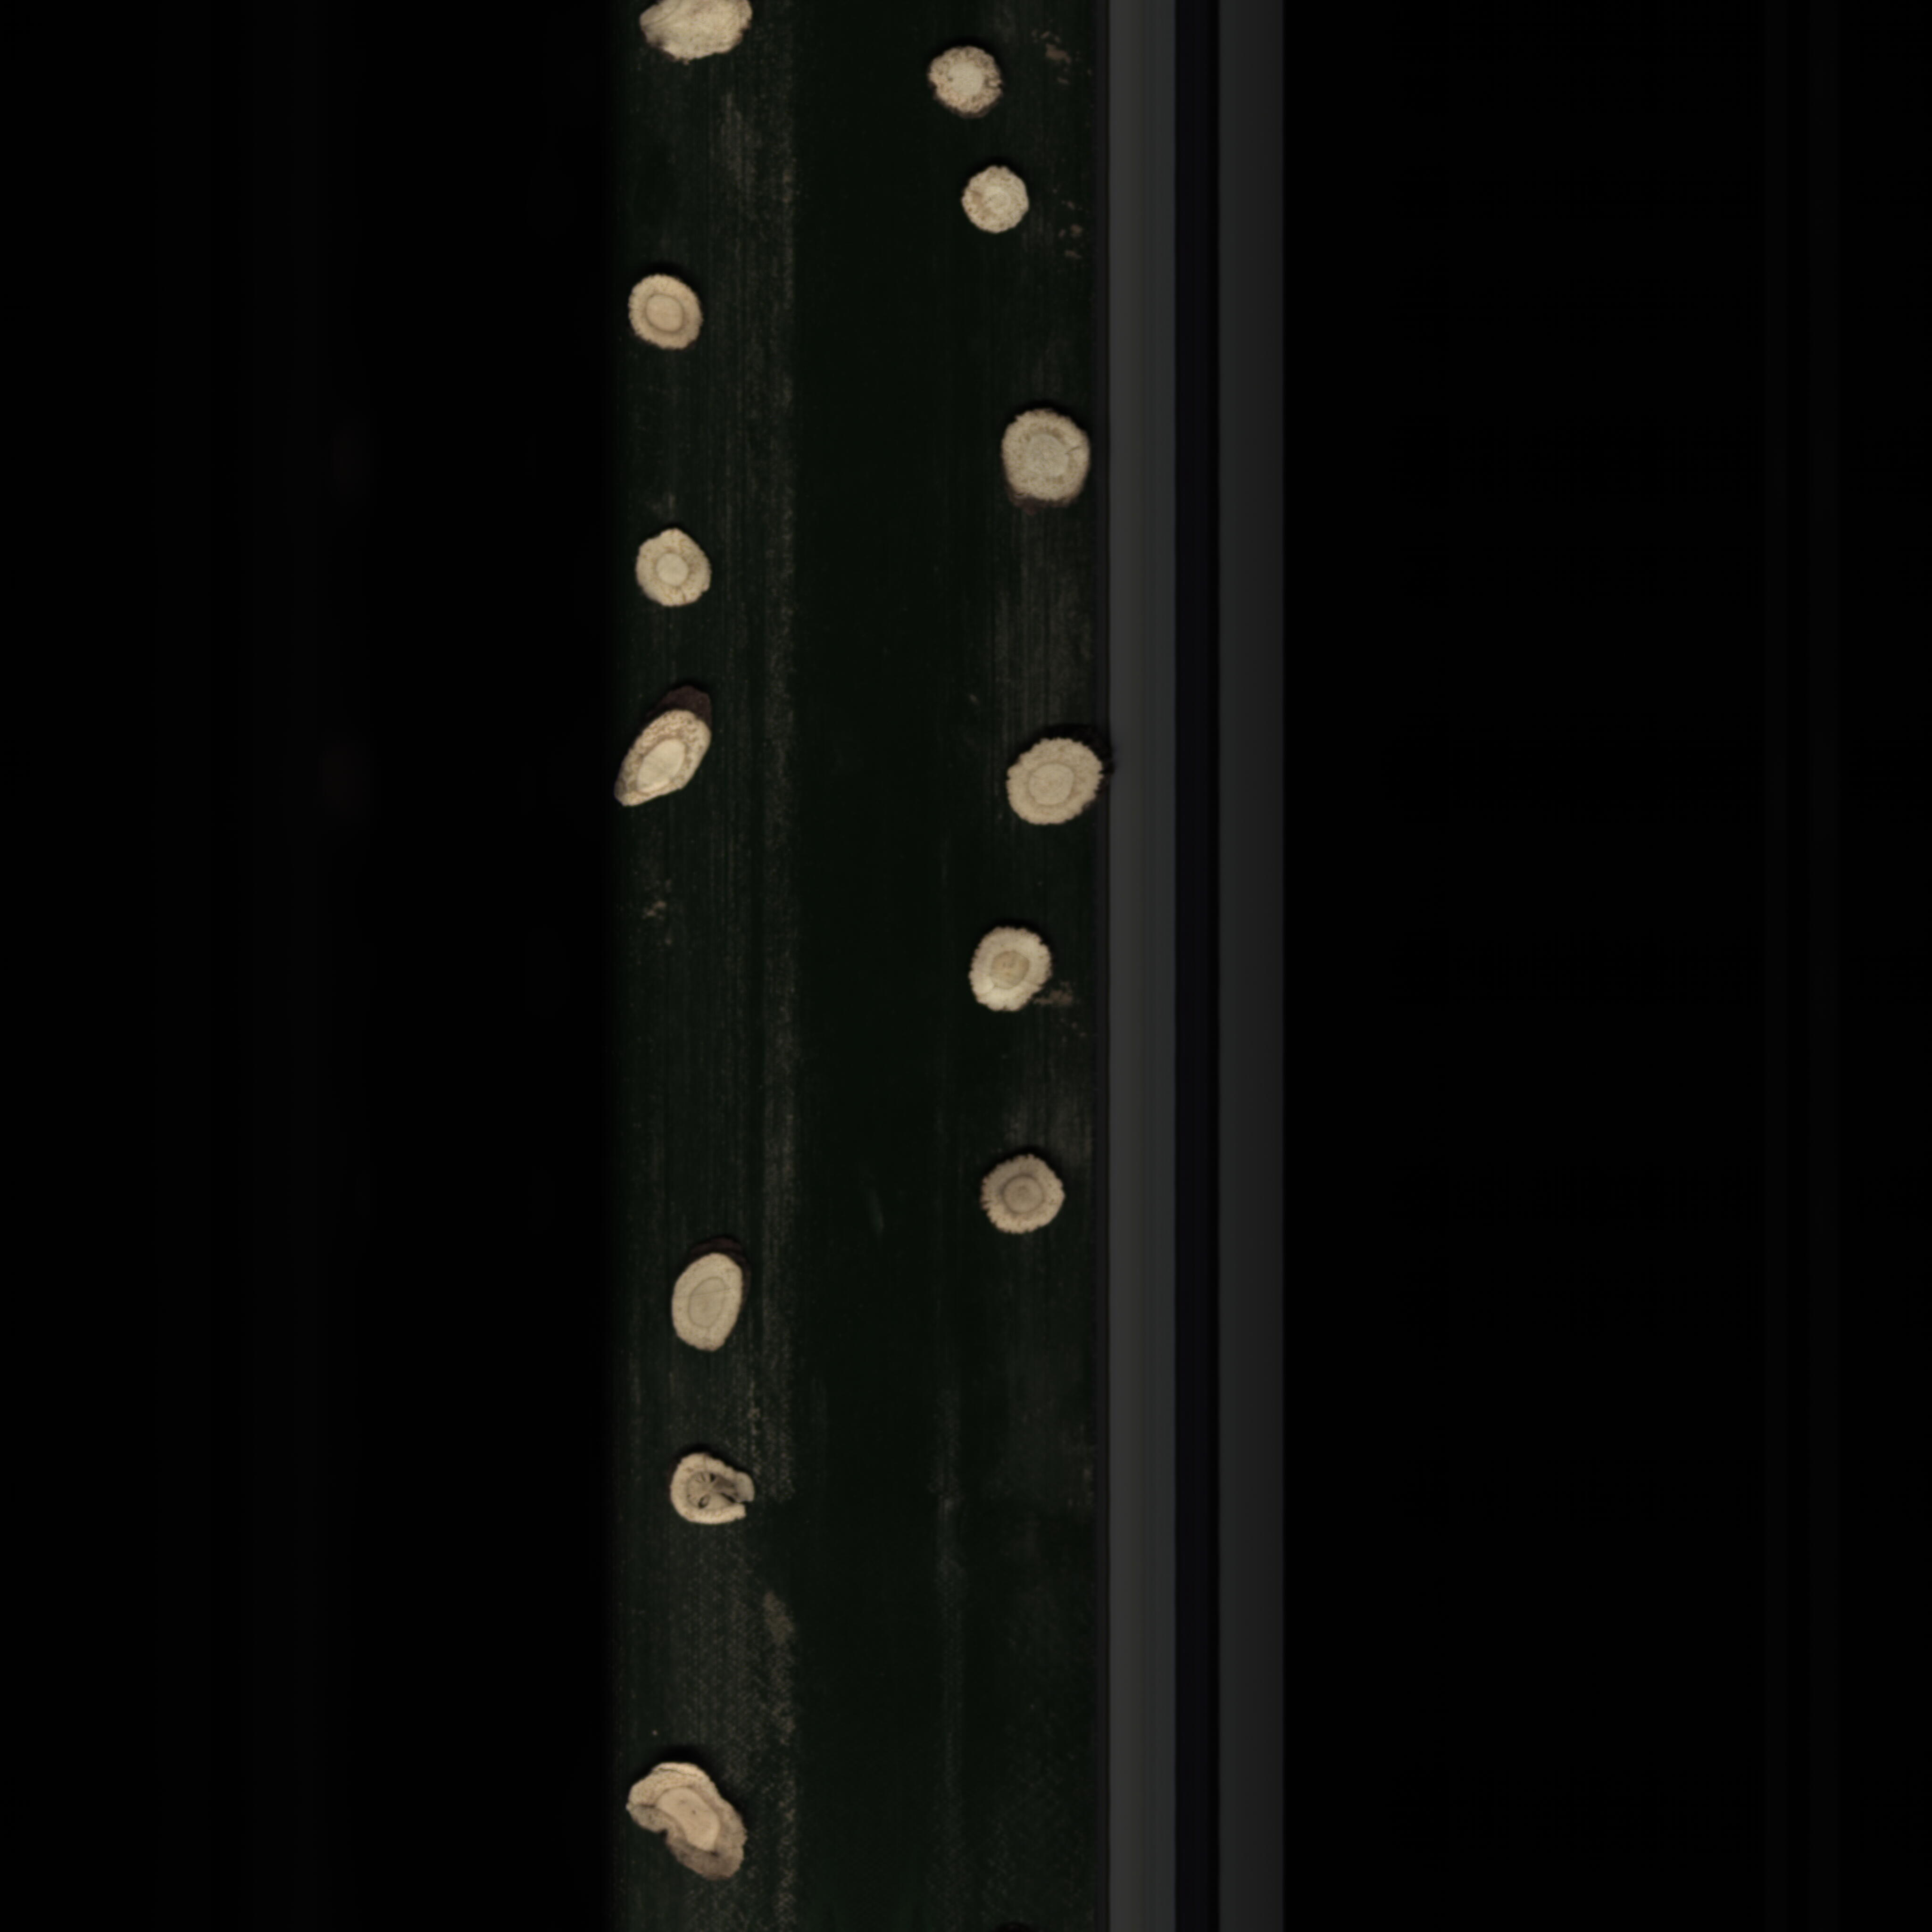distortion: (621, 1750, 768, 1895), (614, 683, 724, 828)
hole: (662, 1445, 777, 1537)
